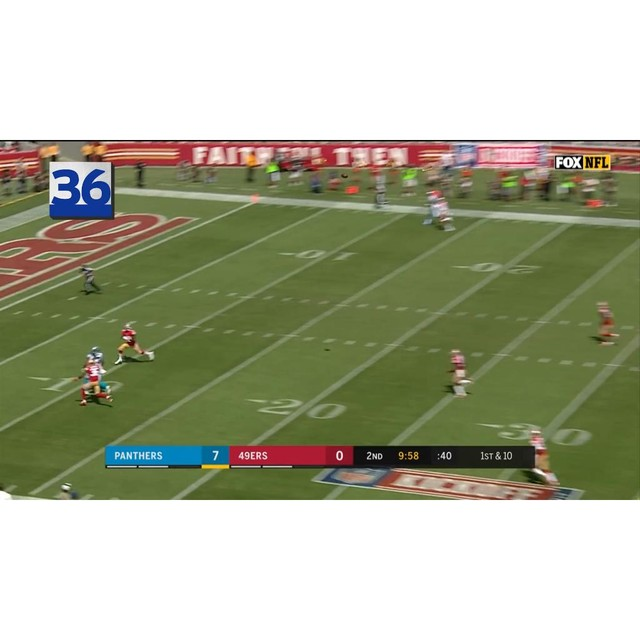american-football-player: (526, 428, 558, 485), (113, 322, 153, 364), (74, 359, 107, 408), (445, 348, 475, 398), (594, 299, 620, 344), (79, 263, 102, 295)
